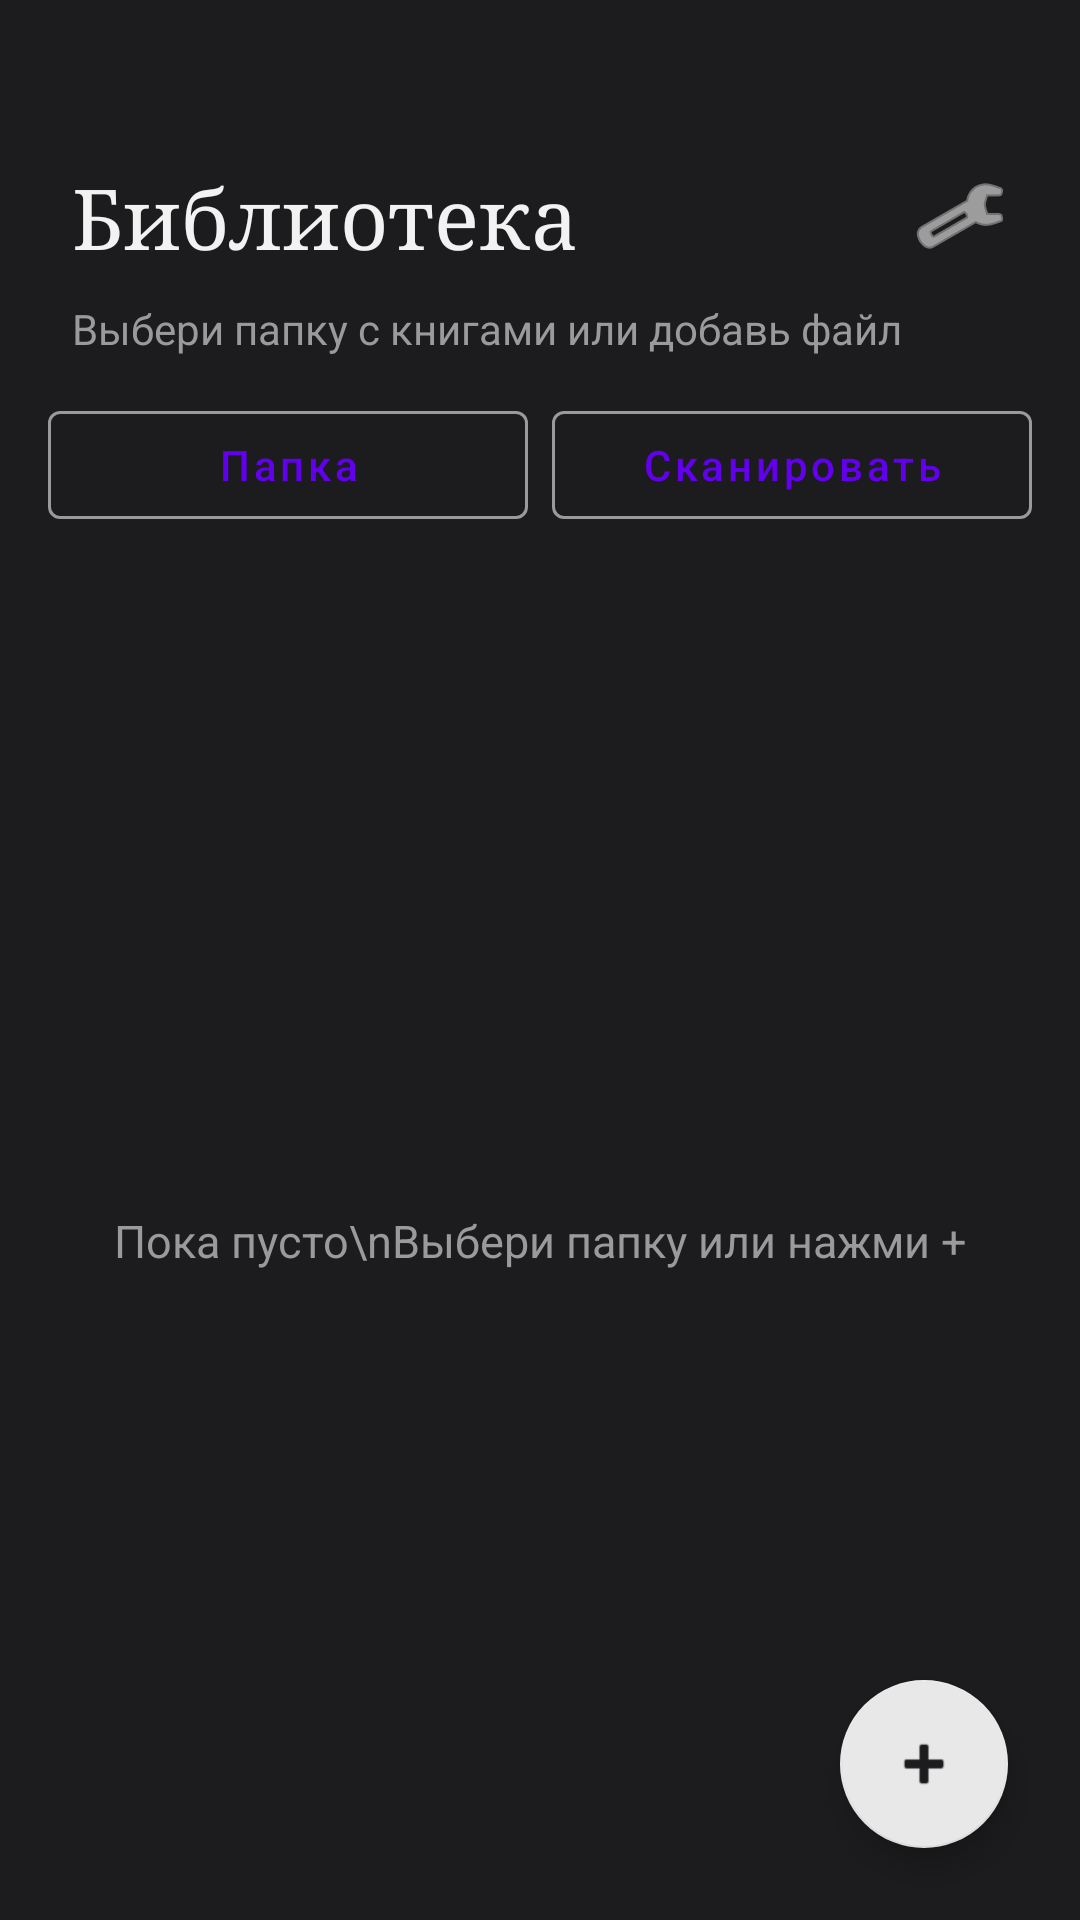

Locate icon controls on the screen. Image size 1080×1920, boxes as (x1, y1, x2, y2).
Добавить книгу: (840, 1680, 1008, 1848)
Настройки: (917, 183, 1003, 249)
